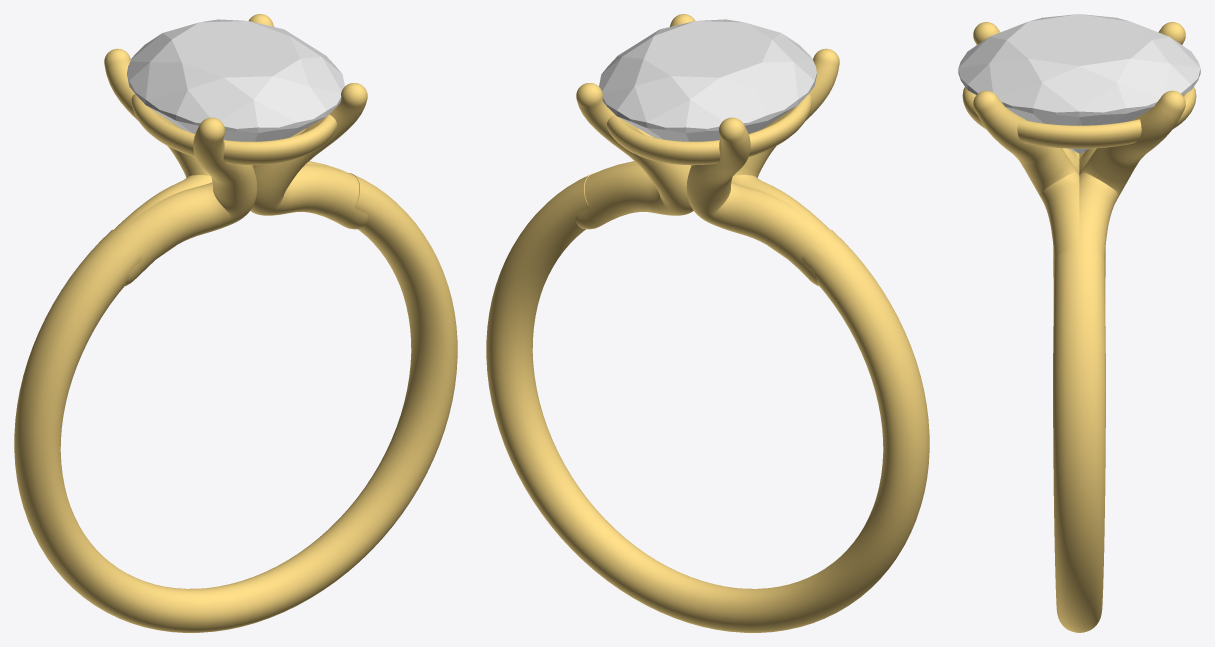
File: DemetriYGeng_blender.glb
3 views of the same model, side by side, from view 1: azimuth 30°, elevation 25°; view 2: azimuth 150°, elevation 25°; view 3: azimuth 270°, elevation 25° (orthographic).
Parts seen in each view (by area): view 1: V3 straight rail Demetri YG for 3d model, Demetri oval dia for 3d model; view 2: V3 straight rail Demetri YG for 3d model, Demetri oval dia for 3d model; view 3: V3 straight rail Demetri YG for 3d model, Demetri oval dia for 3d model.
Part boxes in pixels (left/top/right/bottom): V3 straight rail Demetri YG for 3d model: left=14, top=14, right=457, bottom=632; Demetri oval dia for 3d model: left=127, top=19, right=344, bottom=141; V3 straight rail Demetri YG for 3d model: left=486, top=14, right=929, bottom=632; Demetri oval dia for 3d model: left=599, top=19, right=816, bottom=141; V3 straight rail Demetri YG for 3d model: left=962, top=22, right=1196, bottom=632; Demetri oval dia for 3d model: left=958, top=14, right=1200, bottom=153.
Bounding box in the file's own units: 20.51 × 25.96 × 10.
